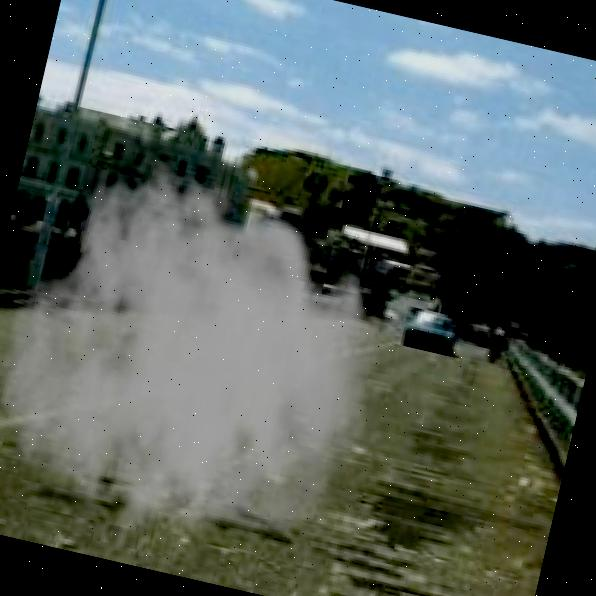smoke: (0, 130, 417, 596)
